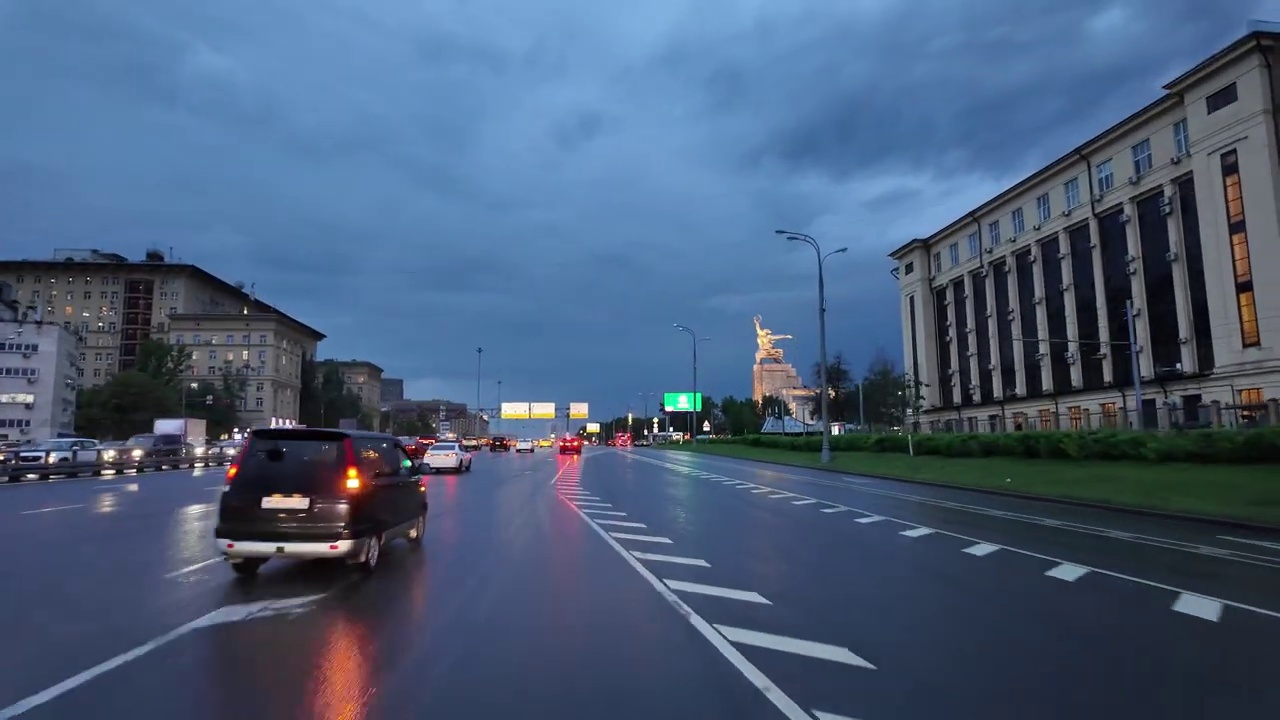apagada: (771, 225, 803, 251)
